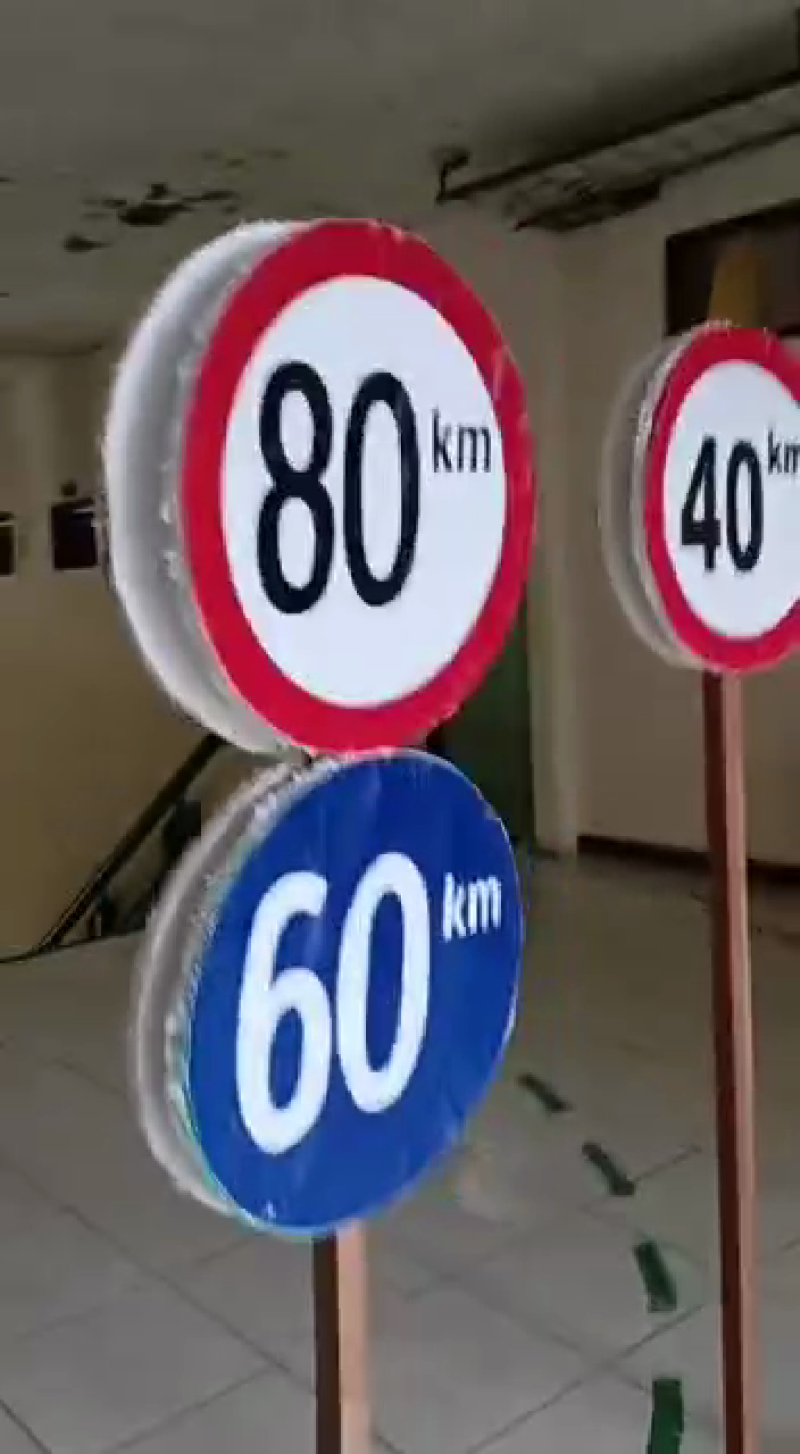batas maksimal 40kmperjam: (617, 299, 800, 686)
batas maksimal 80kmperjam minimal 60kmperjam: (158, 212, 549, 1244)
